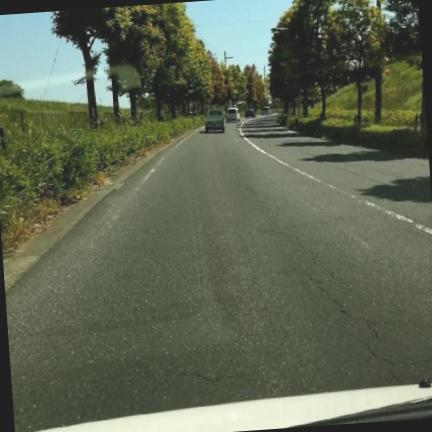Road: (5, 116, 431, 431)
